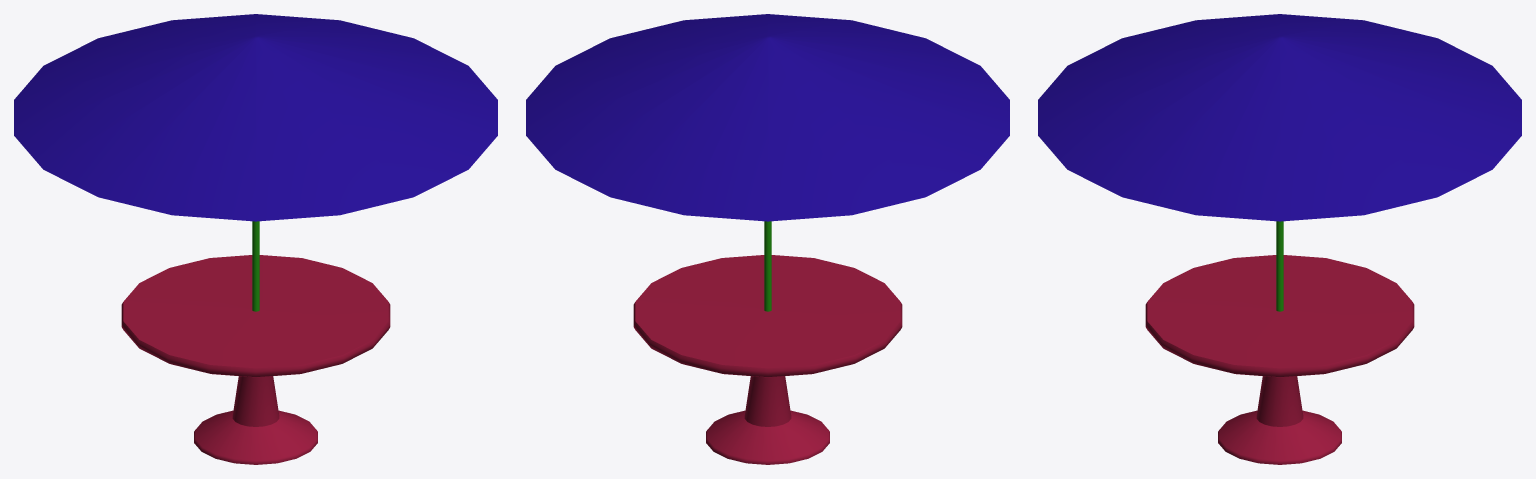
The model's file is stolParasol.FBX.
3 views of the same model, side by side, from view 1: azimuth 30°, elevation 25°; view 2: azimuth 150°, elevation 25°; view 3: azimuth 270°, elevation 25° (orthographic).
Parts seen in each view (by area): view 1: stol; view 2: stol; view 3: stol.
Part boxes in pixels (x1=…): stol: x1=14, y1=14, x2=497, y2=464; stol: x1=526, y1=14, x2=1009, y2=464; stol: x1=1038, y1=14, x2=1521, y2=464.
Size of the model in its own units: 104 by 93.62 by 102.
